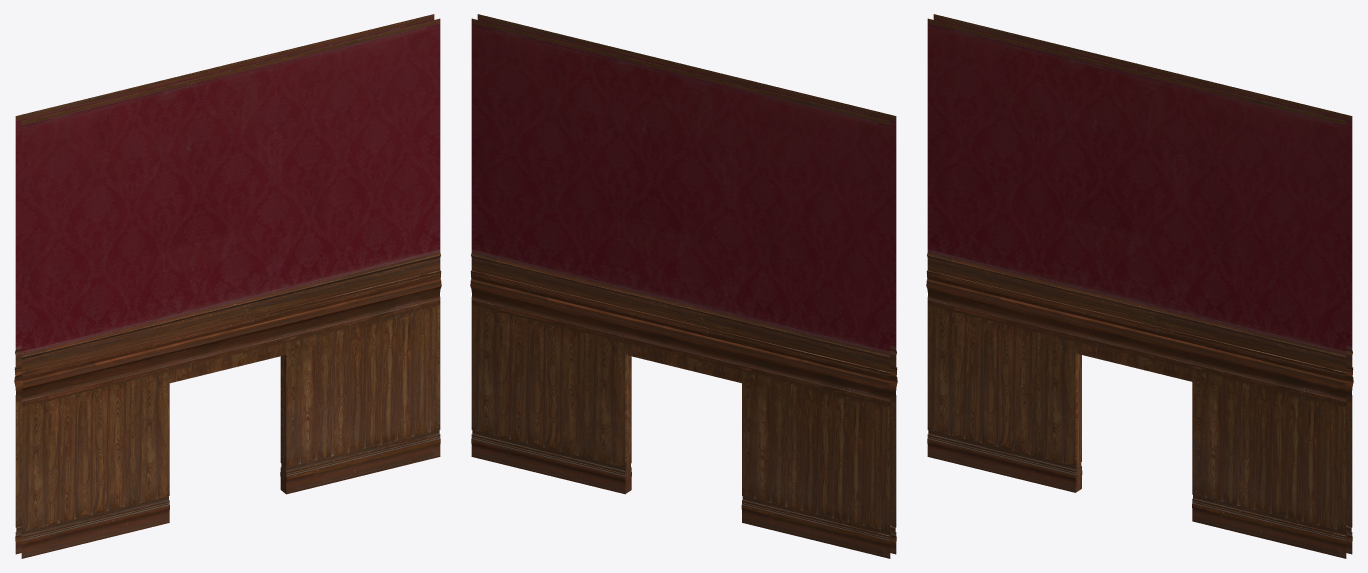
The model's file is Wall_Vent.fbx.
3 renders of one model, left to right at view 1: azimuth 30°, elevation 25°; view 2: azimuth 150°, elevation 25°; view 3: azimuth 330°, elevation 25°, orthographic.
Parts seen in each view (by area): view 1: Wall_Vent.001; view 2: Wall_Vent.001; view 3: Wall_Vent.001.
Part boxes in pixels (bbox=[...]): Wall_Vent.001: bbox=[14, 14, 441, 558]; Wall_Vent.001: bbox=[470, 14, 897, 558]; Wall_Vent.001: bbox=[926, 14, 1353, 558].
Bounding box in the file's own units: 200 × 200 × 6.97.
